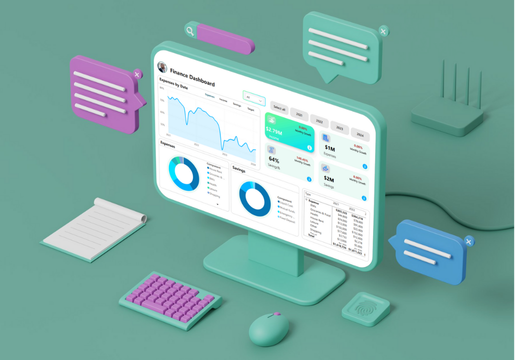

The page's visual inventory and layout, read from the dashboard file:
{"tool":"powerbi","page":{"name":"Page 1","canvas":[1280,720],"ordinal":0},"visuals":[{"type":"donutChart","title":"Savings","fields":{"Y":["Dataset.Savings"],"Category":["Dataset.Component"]},"box":[536.2,437.5,360,252.5],"z":0},{"type":"card","fields":{"Values":["Dataset.Expenses"]},"box":[993.8,167.5,113.8,88.8],"z":1000},{"type":"areaChart","fields":{"Y":["Dataset.Line_Chart_Measures"],"Category":["Dataset.Date"]},"box":[146.4,120,547.3,307.3],"z":2000},{"type":"card","fields":{"Values":["Dataset.Savings"]},"box":[993.8,326.2,108.8,71.2],"z":3000},{"type":"card","fields":{"Values":["Dataset.Savings%"]},"box":[711.2,317.5,107.5,80],"z":4000},{"type":"advancedSlicerVisual","fields":{"Values":["Dataset.Year"]},"box":[753.8,31.2,468.8,58.8],"z":5000},{"type":"donutChart","title":"Expenses","fields":{"Category":["Dataset.Component"],"Y":["Dataset.Expenses"]},"box":[145,437.5,382.5,252.5],"z":6000},{"type":"pivotTable","fields":{"Values":["Dataset.Total_Values"],"Rows":["Dataset.Type","Dataset.Component"],"Columns":["Dataset.Year"]},"box":[913.8,437.5,343.8,252.5],"z":7000},{"type":"card","fields":{"Values":["Dataset.Income"]},"box":[716.4,180.9,97.3,74.5],"z":8000},{"type":"textbox","box":[210.9,55.5,300,46.4],"z":9000},{"type":"slicer","fields":{"Values":["Selected_Date.Month-yr"]},"box":[595.5,55.5,128.2,46.4],"z":10000},{"type":"advancedSlicerVisual","fields":{"Values":["Line_Selection_Table.Type"]},"box":[390.9,122.7,290,37.3],"z":11000},{"type":"card","fields":{"Values":["Dataset.Ex_ws_Sav"]},"box":[573.3,155,150,81.7],"z":12000},{"type":"card","fields":{"Values":["Dataset.Income_Monthly_Gr"]},"box":[882.9,135,61.8,26.4],"z":13000,"group":"g1"},{"type":"card","fields":{"Values":["Dataset.Savings_Monthly_Gr"]},"box":[1161.1,135.5,61.8,26.4],"z":13000,"group":"g3"},{"type":"card","fields":{"Values":["Dataset.Expenses_Monthly_Gr"]},"box":[1153.8,283.9,74.6,23.8],"z":13000,"group":"g4"},{"type":"card","fields":{"Values":["Dataset.Ex_ws_Sav"]},"box":[859.5,286.1,105,28.8],"z":13000,"group":"g2"},{"type":"group","id":"g1","title":"Group 1","box":[861.8,135,103.6,45.9],"z":14000},{"type":"group","id":"g2","title":"Group 1","box":[859.5,286.1,105.9,41.7],"z":15000},{"type":"textbox","box":[861.8,153.6,103.6,27.3],"z":15001,"group":"g1"},{"type":"textbox","box":[1140,154.1,103.6,27.3],"z":15001,"group":"g3"},{"type":"textbox","box":[861.8,300.5,103.6,27.3],"z":15001,"group":"g2"},{"type":"textbox","box":[1140,300.5,103.6,27.3],"z":15001,"group":"g4"},{"type":"group","id":"g3","title":"Group 1","box":[1140,135.5,103.6,45.5],"z":16000},{"type":"group","id":"g4","title":"Group 1","box":[1140,283.9,103.6,43.8],"z":17000}]}

Visuals, with their boxes on the page's 1280x720 design canvas (x1, y1, x2, y2). These are canvas units, not pixel positions in the 515x360 screenshot, which may show the page scaled, cropped or inside an application window:
"Savings" donutChart: [536,438,896,690]
card - Dataset.Expenses: [994,168,1108,256]
areaChart - Dataset.Line_Chart_Measures x Dataset.Date: [146,120,694,427]
card - Dataset.Savings: [994,326,1103,397]
card - Dataset.Savings%: [711,318,819,398]
advancedSlicerVisual - Dataset.Year: [754,31,1223,90]
"Expenses" donutChart: [145,438,528,690]
pivotTable - Dataset.Total_Values x Dataset.Type: [914,438,1258,690]
card - Dataset.Income: [716,181,814,255]
textbox: [211,56,511,102]
slicer - Selected_Date.Month-yr: [596,56,724,102]
advancedSlicerVisual - Line_Selection_Table.Type: [391,123,681,160]
card - Dataset.Ex_ws_Sav: [573,155,723,237]
card - Dataset.Income_Monthly_Gr: [883,135,945,161]
card - Dataset.Savings_Monthly_Gr: [1161,136,1223,162]
card - Dataset.Expenses_Monthly_Gr: [1154,284,1228,308]
card - Dataset.Ex_ws_Sav: [860,286,964,315]
"Group 1" group: [862,135,965,181]
"Group 1" group: [860,286,965,328]
textbox: [862,154,965,181]
textbox: [1140,154,1244,181]
textbox: [862,300,965,328]
textbox: [1140,300,1244,328]
"Group 1" group: [1140,136,1244,181]
"Group 1" group: [1140,284,1244,328]
